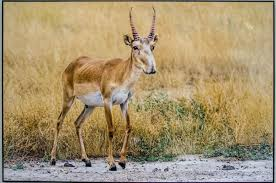saiga: (49, 6, 160, 170)
